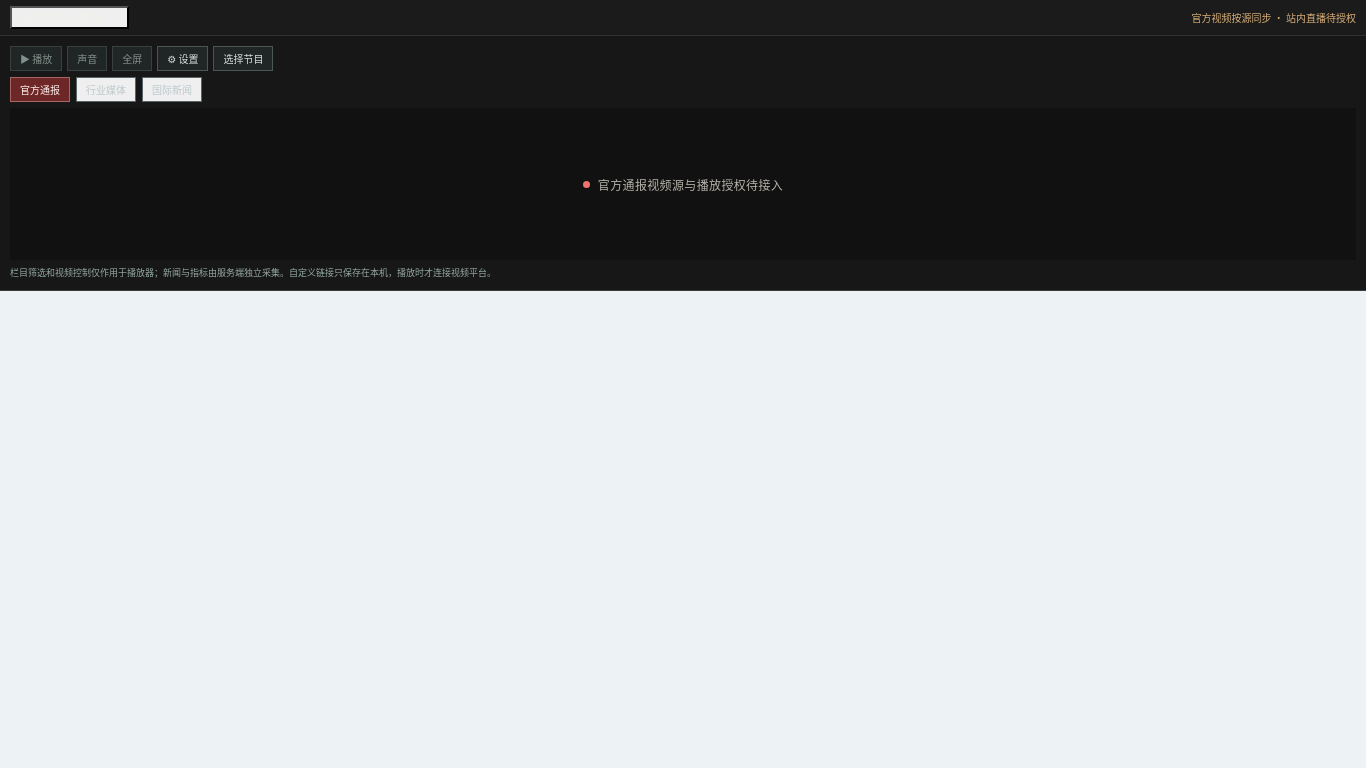
Test: admitted official live programme selection › does not expose playback for unadmitted or expired metadata {"admission":"PENDING"}
Click the button "选择节目".
click(244, 58)  # box [214,46,274,71]
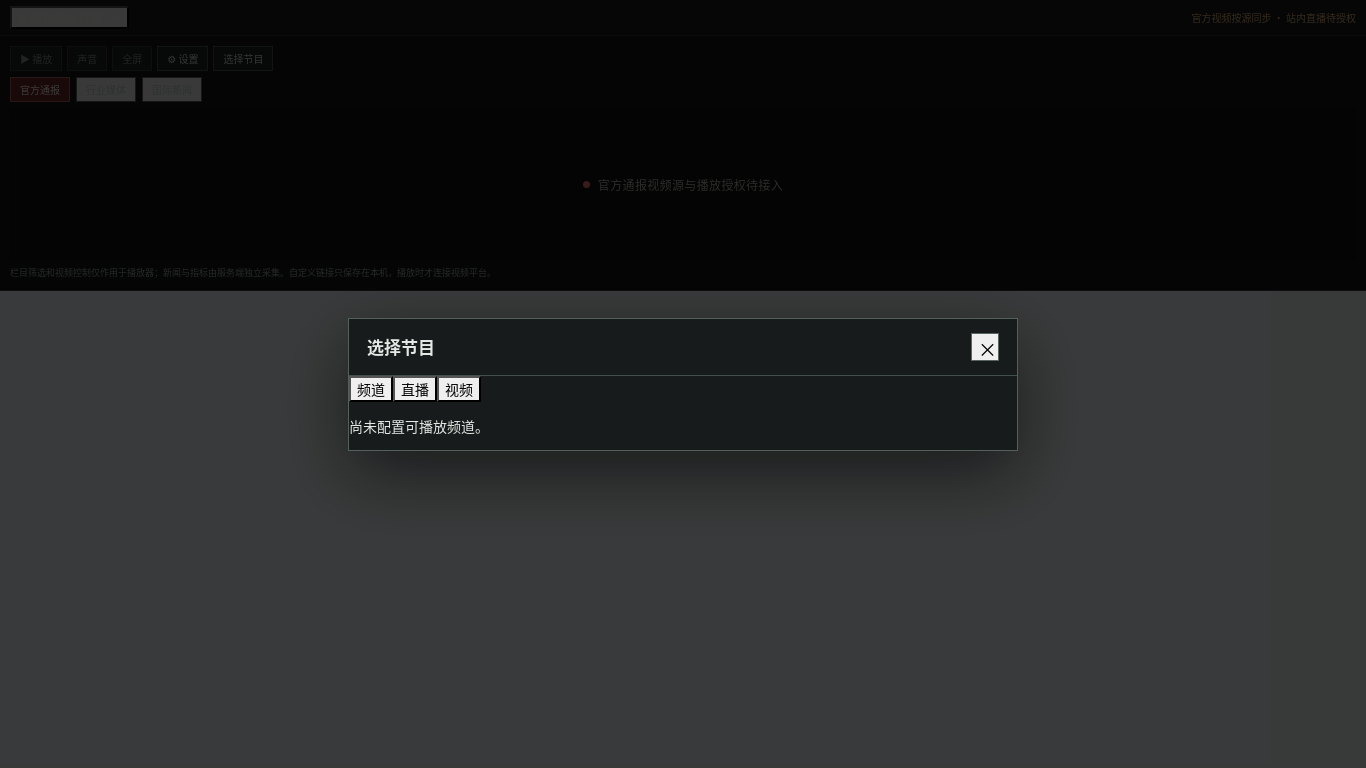
Click the tab "直播".
click(415, 388)  # box [393,376,437,402]
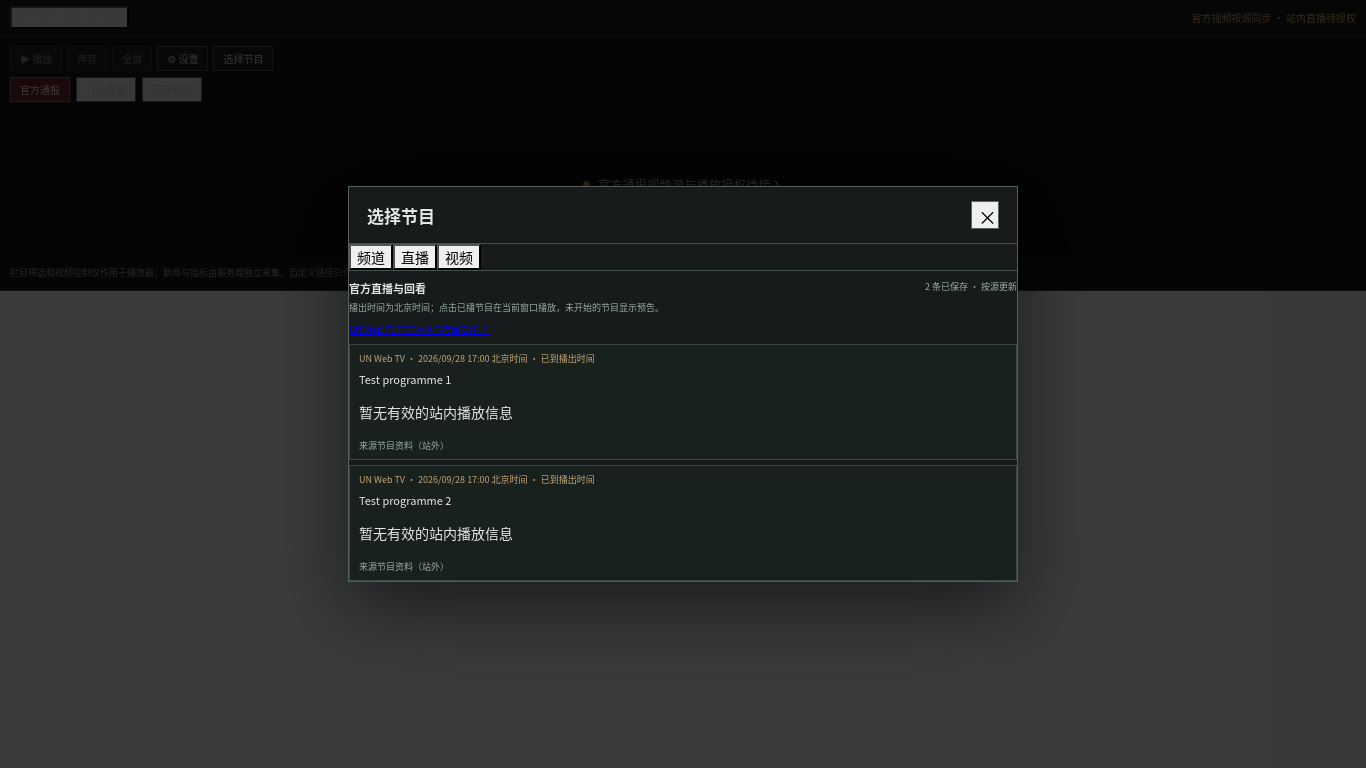
Now the text "Test programme 1" is shown, box [359,371,451,387]
